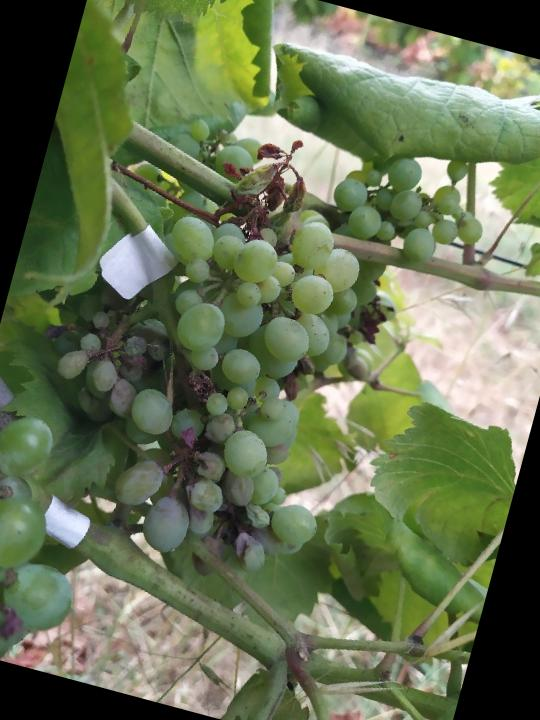grape: (15, 118, 413, 595)
